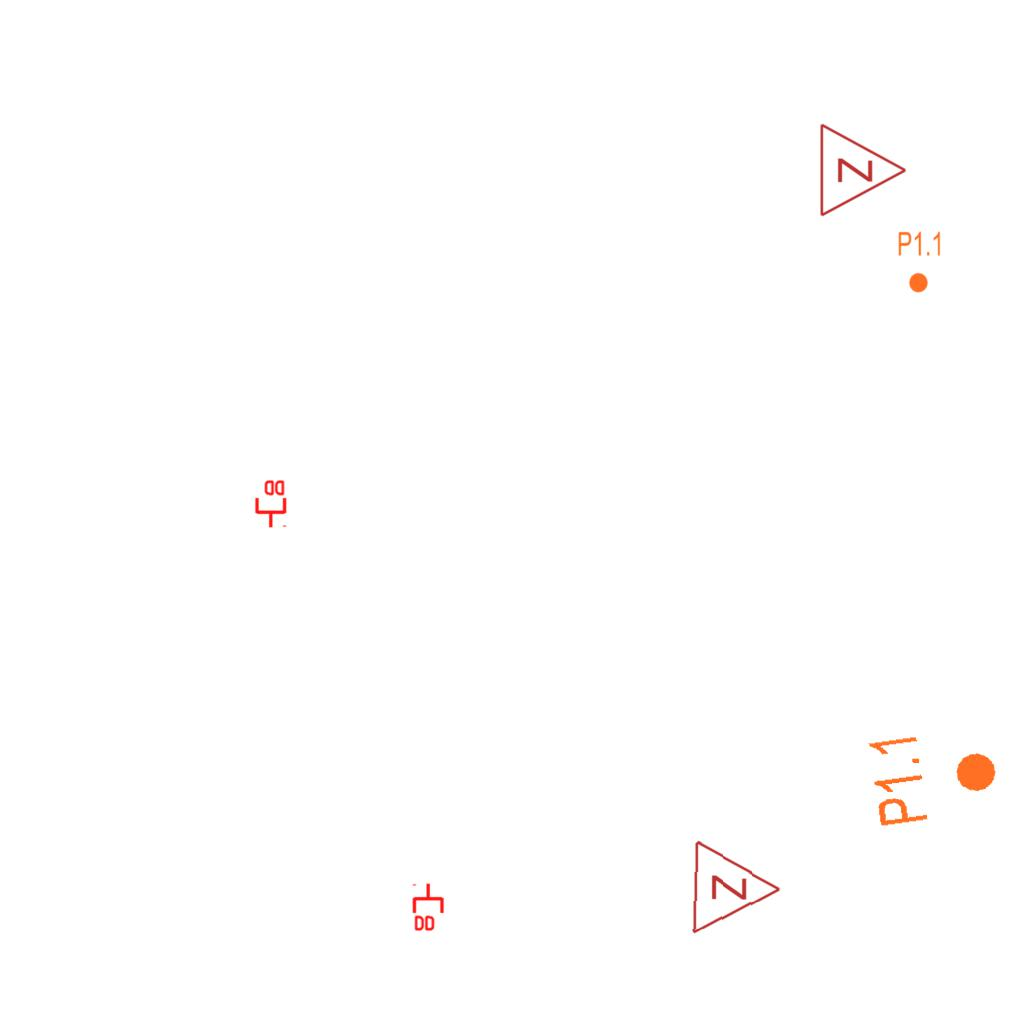Datenanschluss_zweifach: (412, 882, 446, 933), (253, 478, 287, 529)
Downlight_LED_Einbauleuchten_Flur_2: (864, 720, 1005, 830), (897, 230, 943, 294)
Zimmersignalleuchte: (685, 836, 789, 938), (813, 120, 913, 218)
